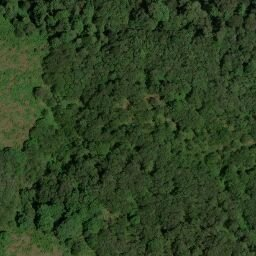forest: (46, 2, 256, 256), (1, 146, 46, 232), (15, 1, 47, 32), (27, 118, 47, 148)
